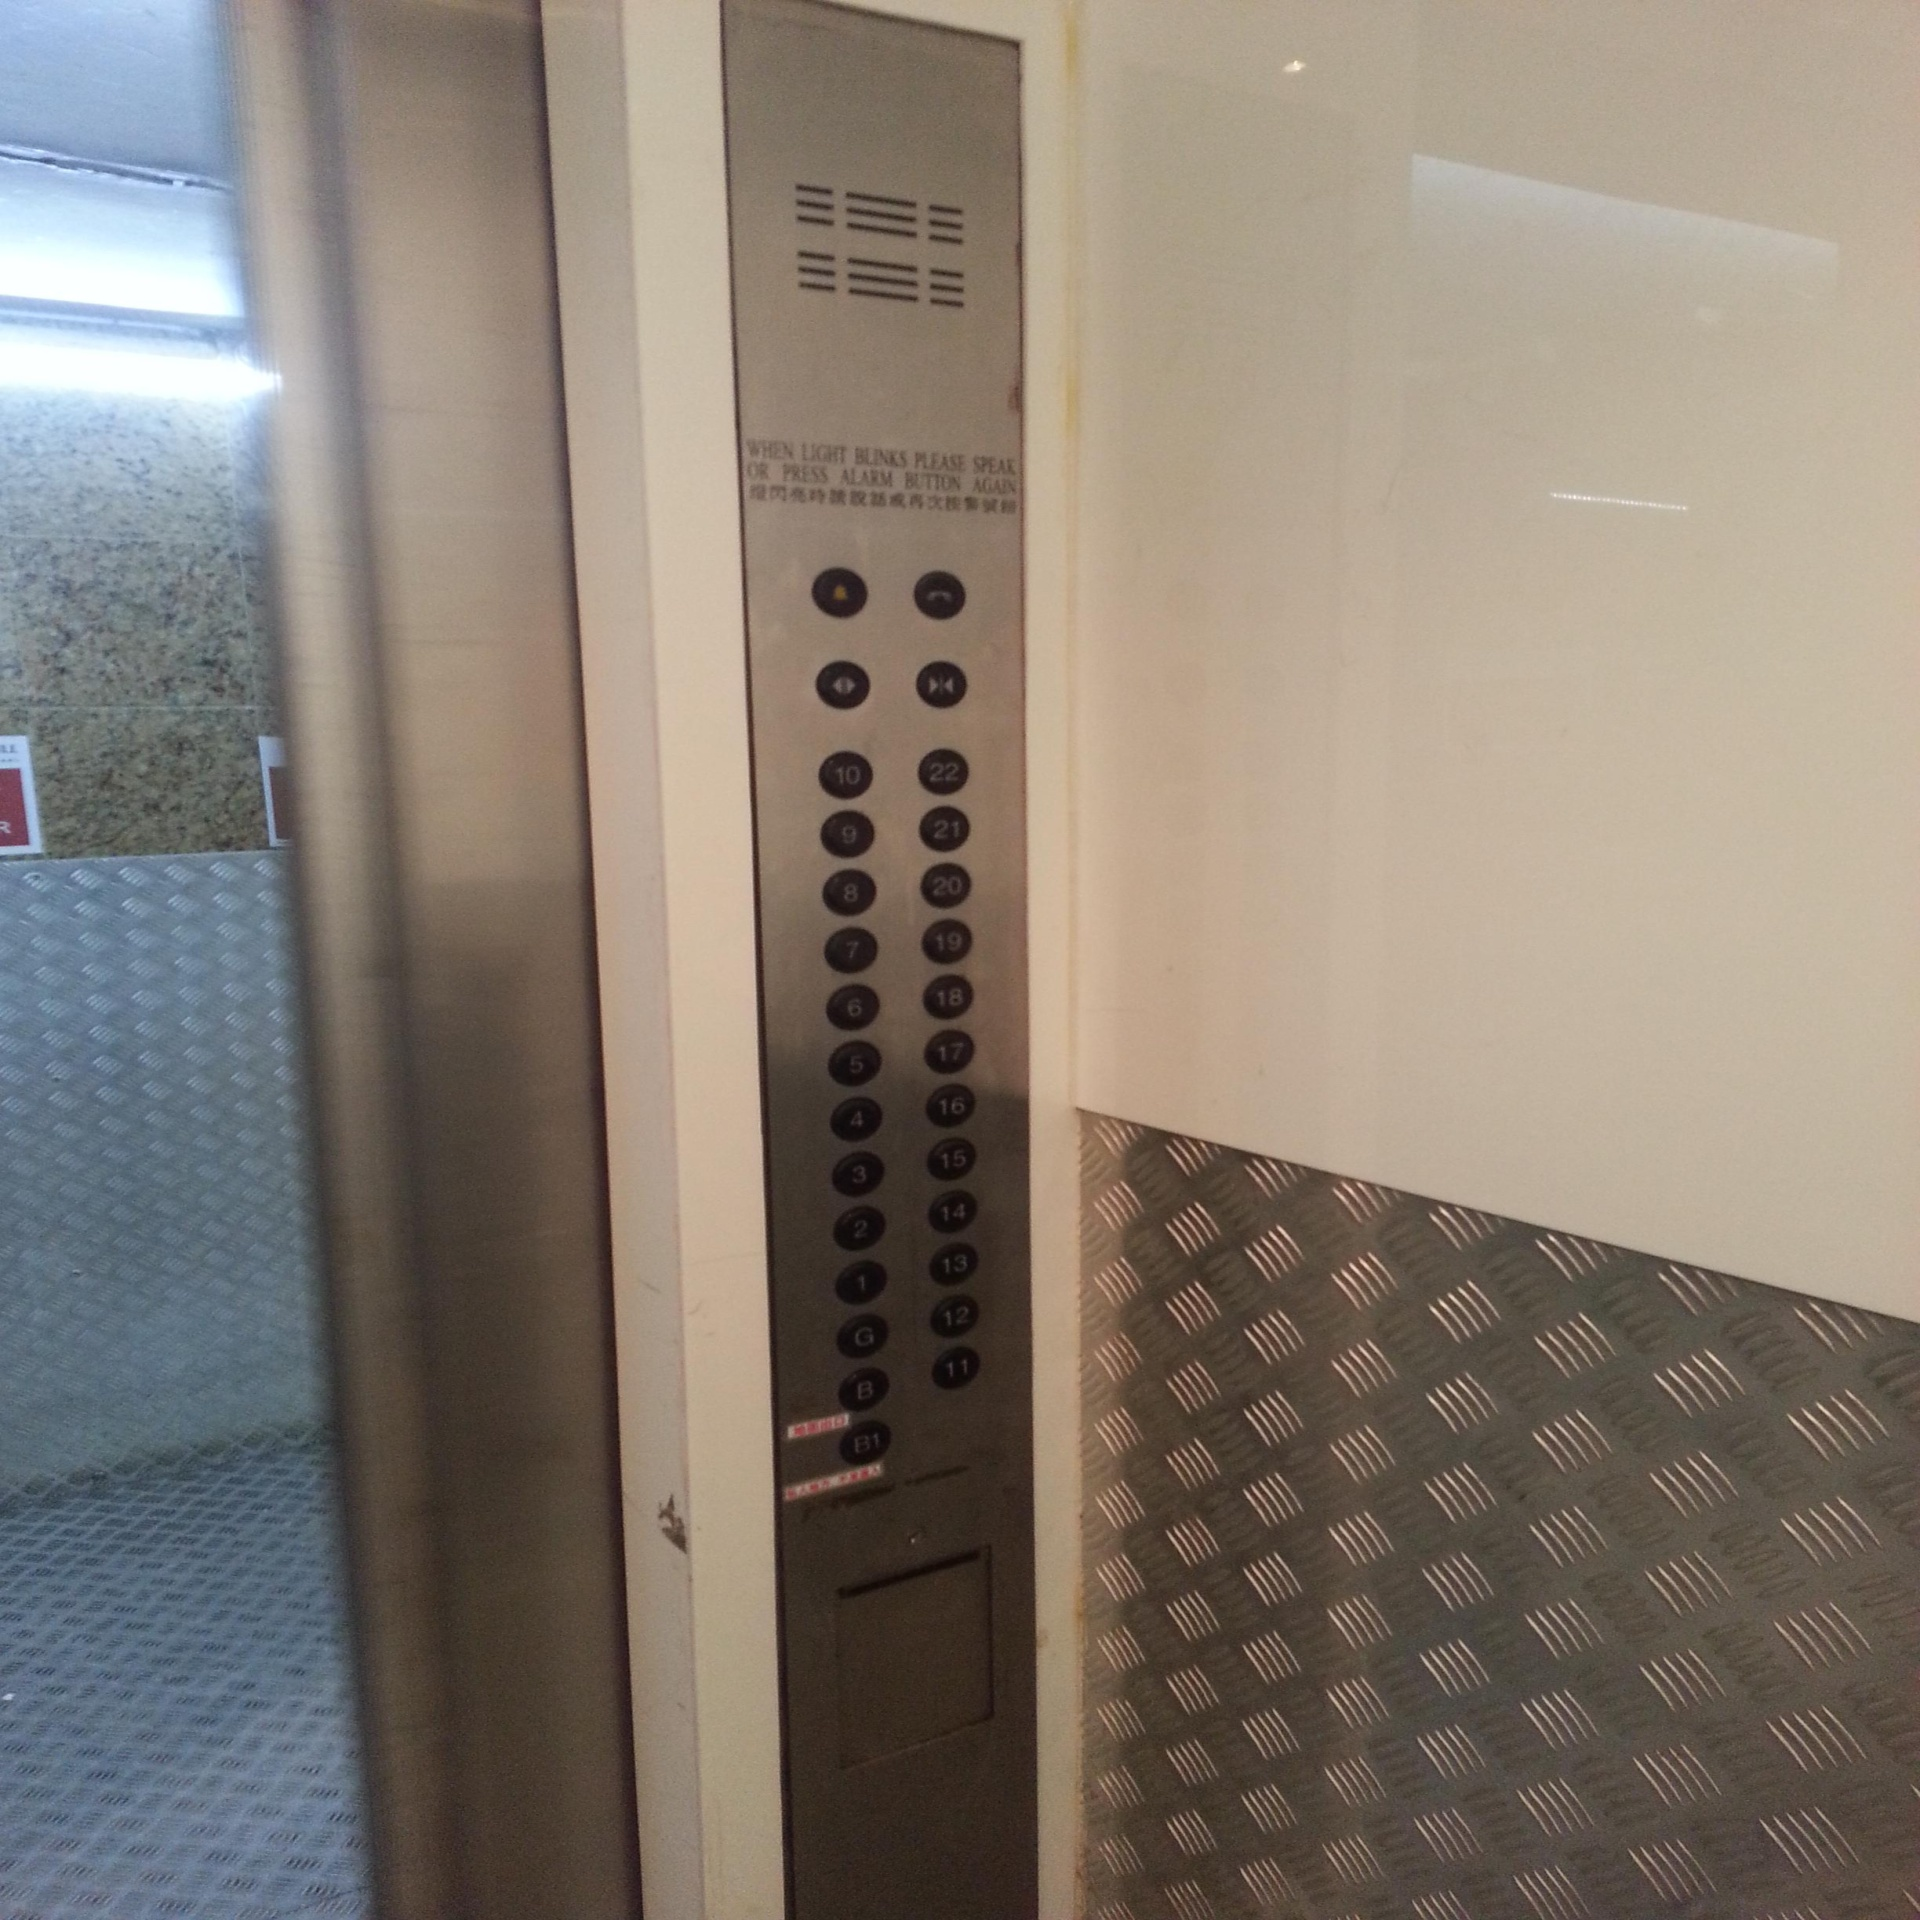1: (835, 1261, 888, 1305)
10: (816, 747, 877, 802)
11: (932, 1345, 983, 1391)
12: (930, 1294, 981, 1336)
13: (928, 1245, 978, 1285)
14: (928, 1189, 979, 1234)
15: (927, 1138, 978, 1180)
16: (925, 1085, 976, 1127)
17: (925, 1030, 976, 1074)
18: (921, 972, 972, 1020)
19: (920, 918, 972, 964)
2: (833, 1204, 884, 1252)
20: (918, 862, 971, 907)
21: (918, 805, 971, 851)
22: (914, 745, 972, 796)
3: (832, 1152, 884, 1197)
4: (830, 1095, 883, 1143)
5: (826, 1039, 883, 1087)
6: (825, 983, 879, 1030)
7: (823, 927, 879, 974)
8: (821, 869, 876, 918)
9: (819, 811, 876, 858)
B: (837, 1368, 890, 1412)
B1: (839, 1421, 891, 1465)
G: (835, 1315, 890, 1359)
alarm: (812, 566, 869, 617)
call: (913, 570, 965, 621)
close: (916, 661, 967, 709)
open: (816, 661, 870, 710)
